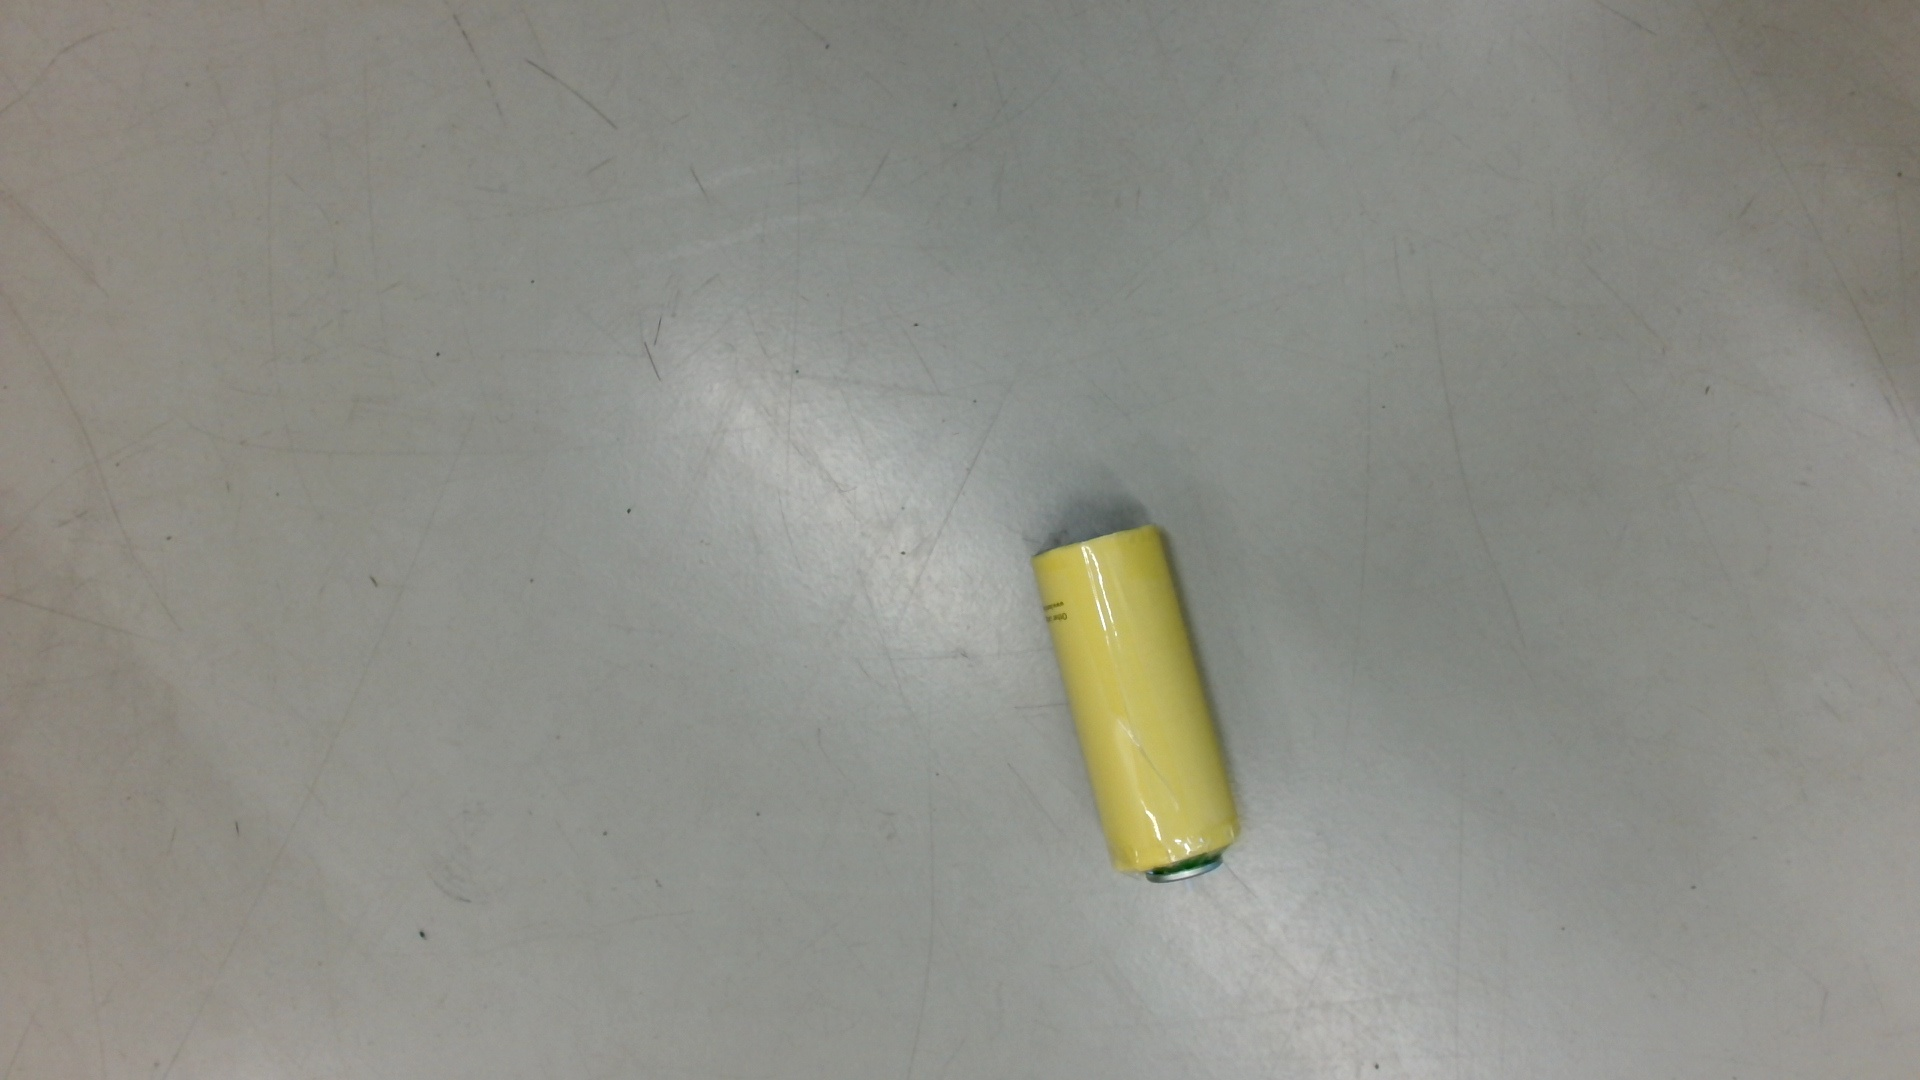Cylinder: (1025, 513, 1253, 901)
